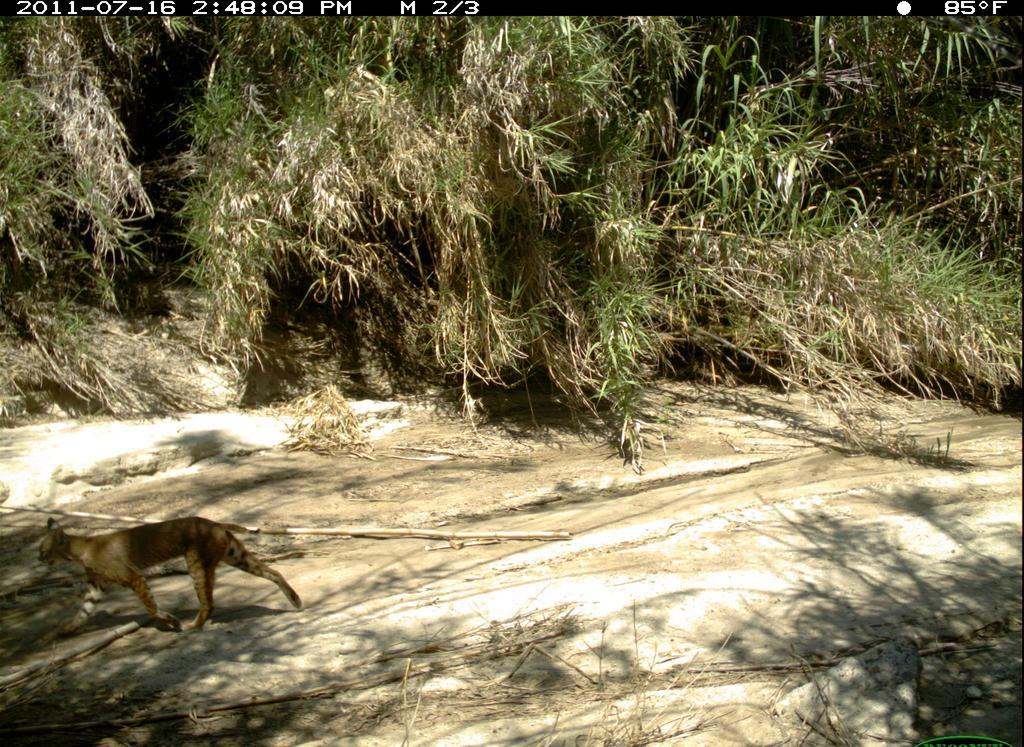bobcat: (34, 509, 310, 638)
